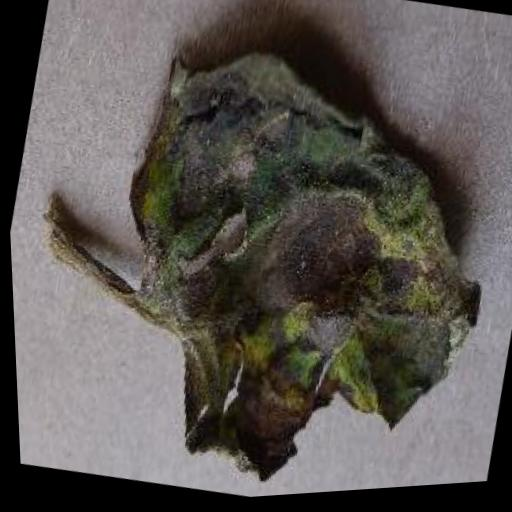Early Blight: (65, 17, 512, 509)
